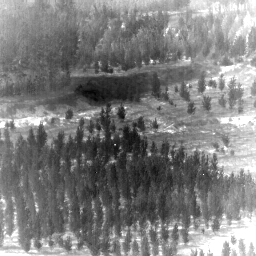aircraft: (114, 144, 116, 146)
